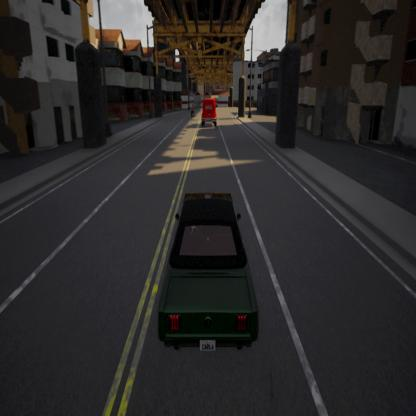Cars: (155, 178, 266, 366), (200, 94, 218, 128)
